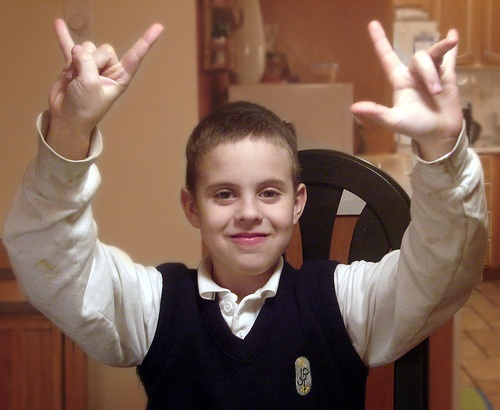head: (181, 103, 309, 277)
person: (1, 13, 496, 409)
